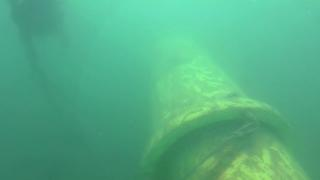pipe: (132, 20, 311, 180)
